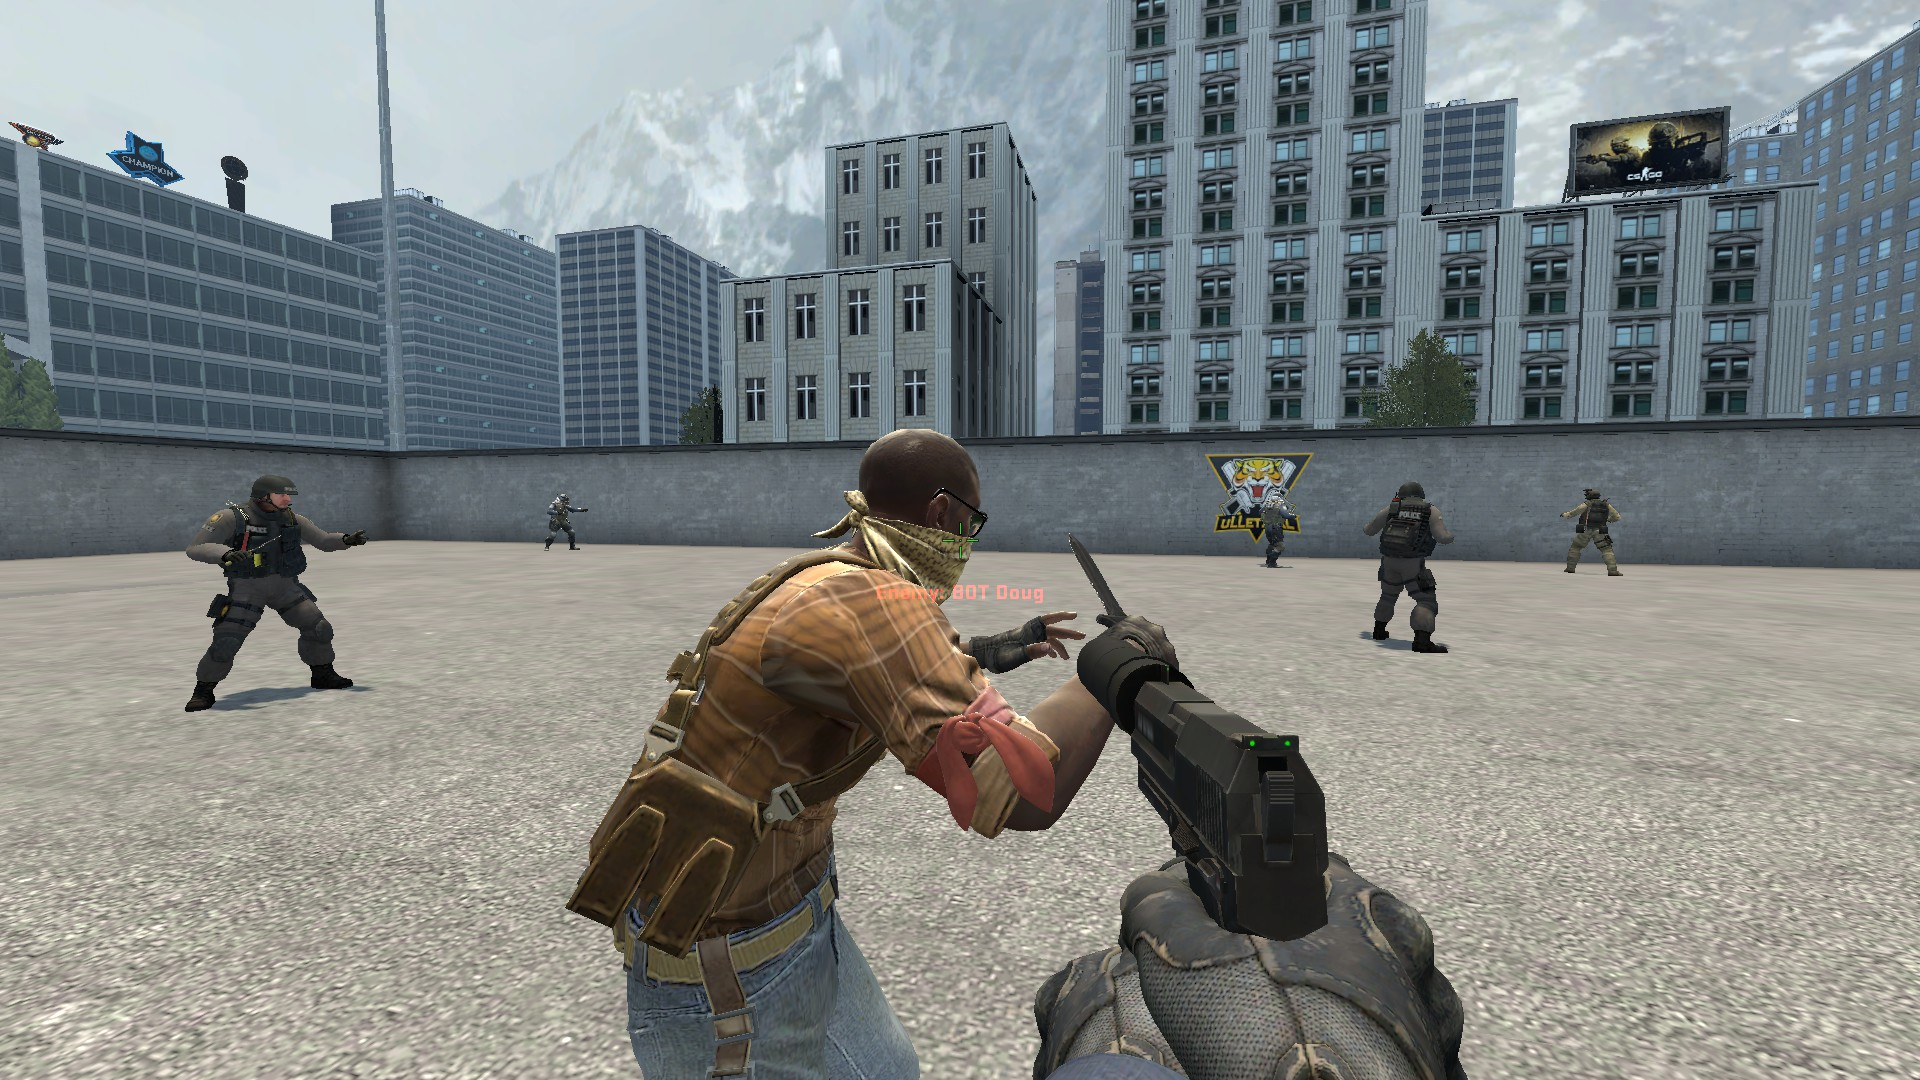ct: (184, 473, 371, 714), (1370, 481, 1457, 659)
ct head: (243, 471, 300, 518), (1390, 478, 1429, 510)
tr: (570, 427, 1181, 1080)
tr head: (843, 428, 995, 604)
